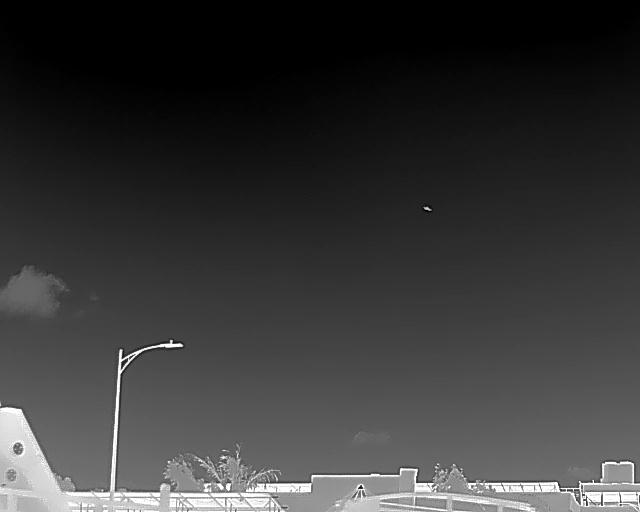fpv-drone: (422, 205, 432, 211)
